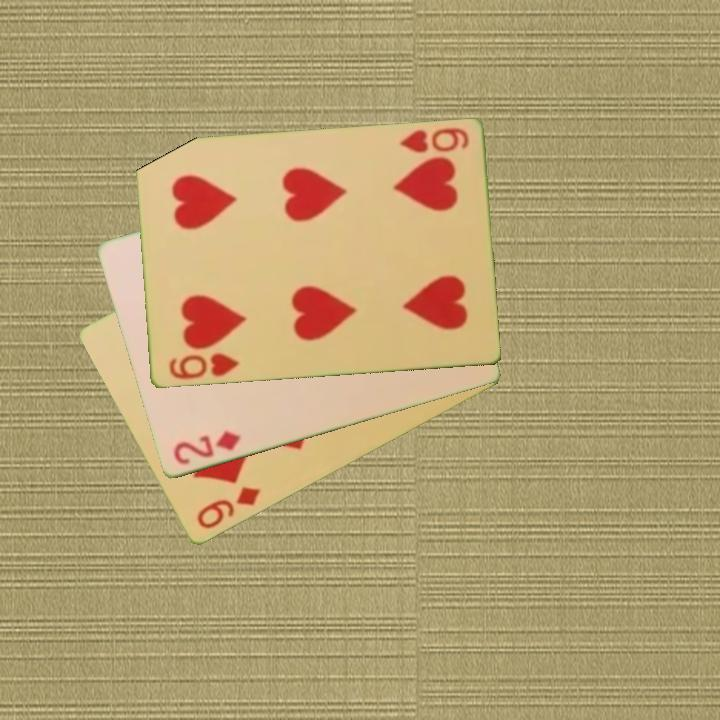2d: (169, 428, 243, 469)
6h: (165, 350, 242, 383), (395, 124, 472, 156)
9d: (193, 483, 264, 533)
